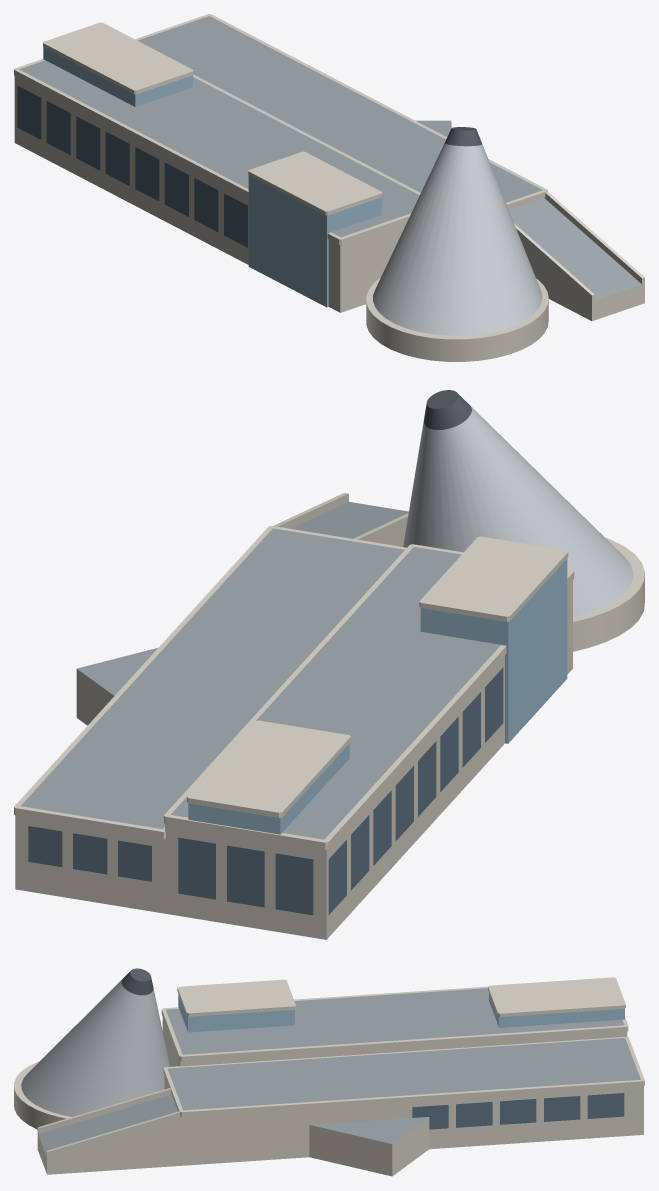
3 views of the same model, one above another, from view 1: azimuth 30°, elevation 25°; view 2: azimuth 150°, elevation 25°; view 3: azimuth 270°, elevation 25° (orthographic). The views are drawn at different scales.
Parts seen in each view (by area): view 1: museum-of-glass; view 2: museum-of-glass; view 3: museum-of-glass.
Boxes of the visible parts, bbox=[...] form: museum-of-glass: bbox=[14, 14, 644, 361]; museum-of-glass: bbox=[14, 390, 644, 939]; museum-of-glass: bbox=[14, 968, 644, 1176].
Size of the model in its own units: 58.37 by 30.18 by 116.
